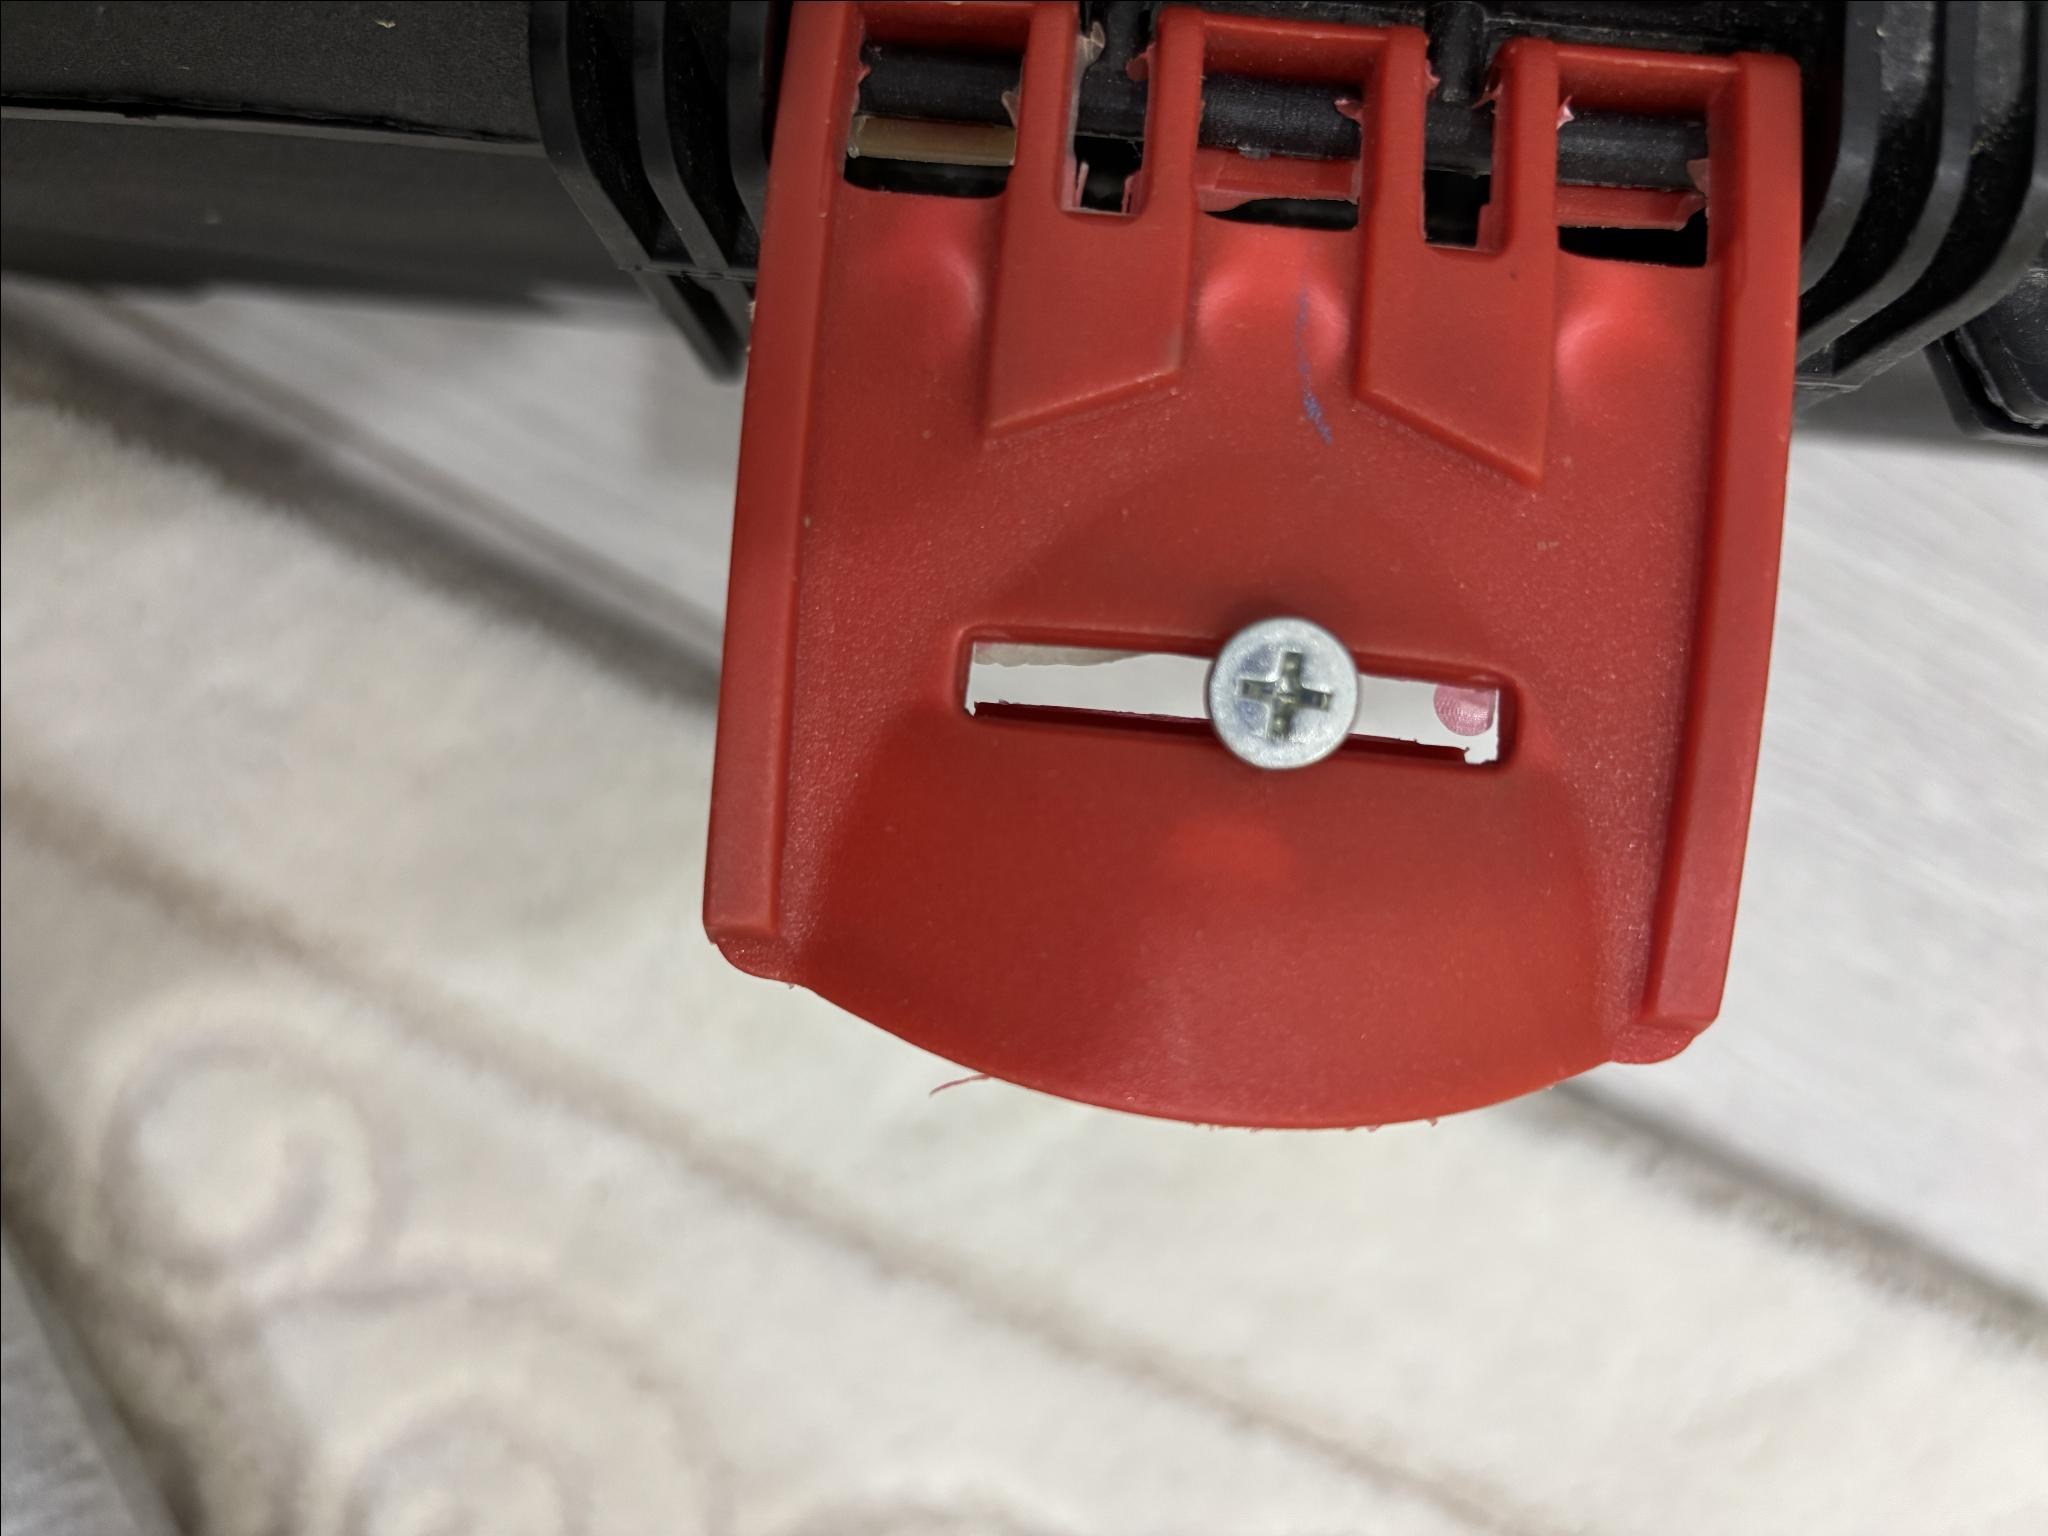PH: (1279, 695, 1432, 845)
